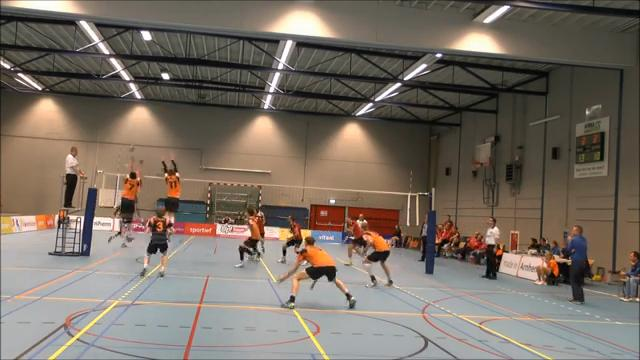Block: (110, 153, 141, 248), (156, 147, 183, 236)
Player: (279, 236, 355, 308), (140, 208, 172, 276), (362, 224, 392, 286), (235, 208, 260, 267), (277, 216, 302, 262), (345, 218, 365, 265), (108, 206, 124, 242), (108, 206, 123, 242), (255, 207, 265, 253), (356, 214, 367, 226)
ball: (127, 143, 136, 153)
